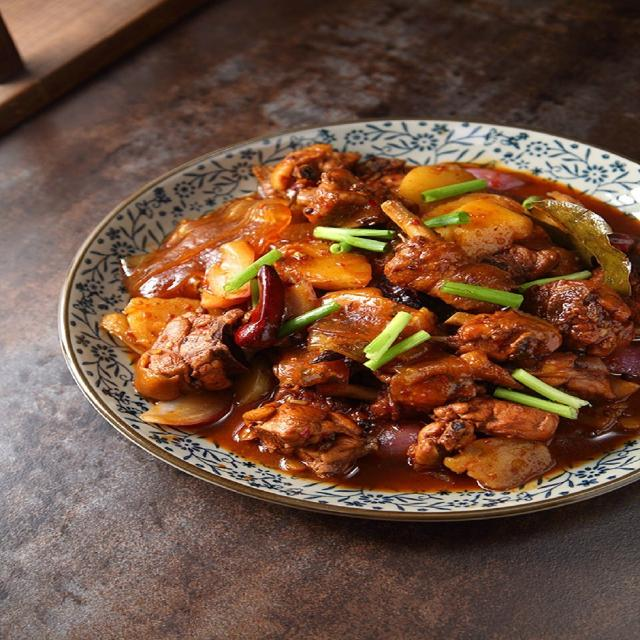ga kho: (100, 144, 639, 491)
